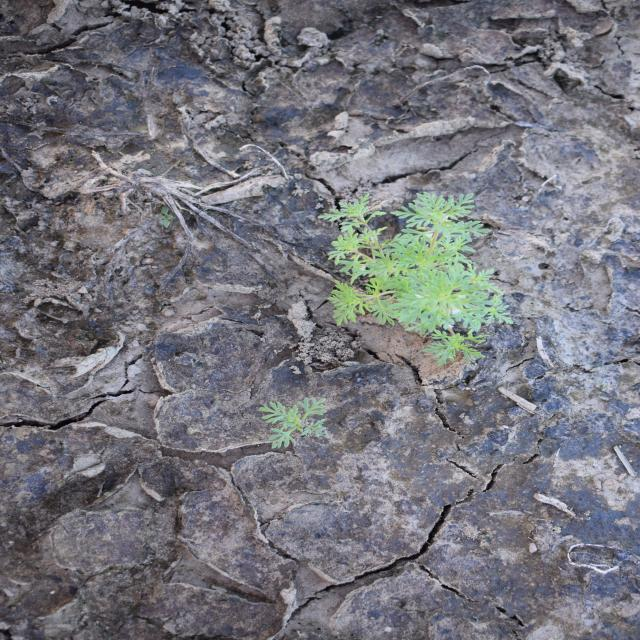Ragweed: (315, 190, 514, 368), (257, 396, 330, 449)
